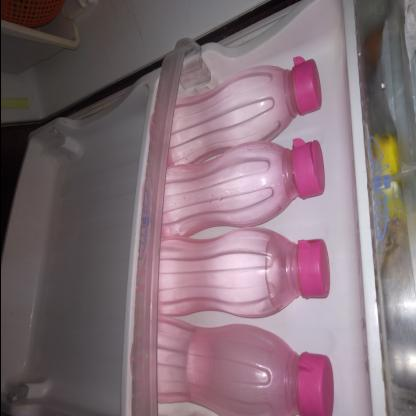bottle: (151, 54, 323, 173), (129, 316, 333, 416), (145, 226, 331, 320), (154, 139, 326, 237)
